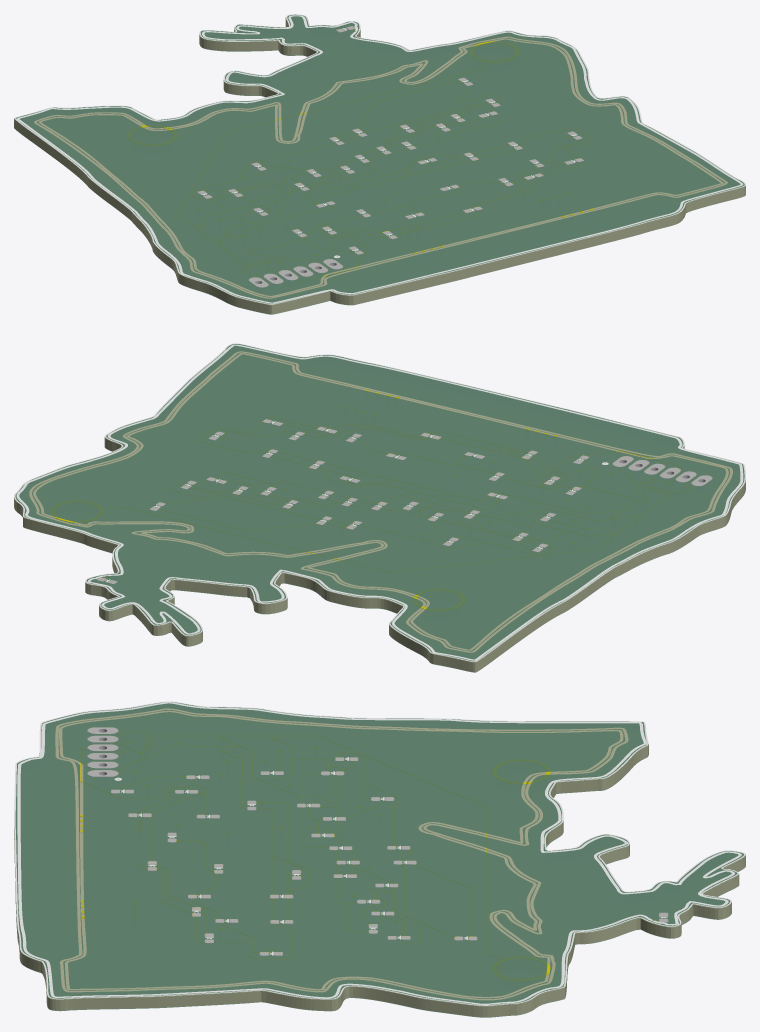
Rendered from bsidespdx-2016-attiny85-badge.glb.
The picture shows the model from 3 angles, top to bottom: view 1: azimuth 30°, elevation 25°; view 2: azimuth 150°, elevation 25°; view 3: azimuth 270°, elevation 25°; orthographic projection. The views are drawn at different scales.
Visible parts, largest first — view 1: =>[0:1:1:9], =>[0:1:1:7], =>[0:1:1:5], =>[0:1:1:2]; view 2: =>[0:1:1:7], =>[0:1:1:9], =>[0:1:1:5], =>[0:1:1:2]; view 3: =>[0:1:1:9], =>[0:1:1:7], =>[0:1:1:5], =>[0:1:1:2].
Part boxes in pixels (x1,y1,x2,y2): =>[0:1:1:9]: [14, 16, 745, 314]; =>[0:1:1:7]: [14, 14, 745, 314]; =>[0:1:1:5]: [14, 14, 745, 304]; =>[0:1:1:2]: [128, 26, 593, 287]; =>[0:1:1:7]: [15, 344, 745, 672]; =>[0:1:1:9]: [14, 345, 745, 672]; =>[0:1:1:5]: [14, 343, 745, 661]; =>[0:1:1:2]: [51, 389, 711, 610]; =>[0:1:1:9]: [14, 704, 745, 1017]; =>[0:1:1:7]: [14, 702, 745, 1017]; =>[0:1:1:5]: [14, 701, 745, 1005]; =>[0:1:1:2]: [79, 727, 667, 980].
Bounding box in the file's own units: 0.0902 × 0.00166 × 0.0916.
Materials: 4 (4 with a texture image).
